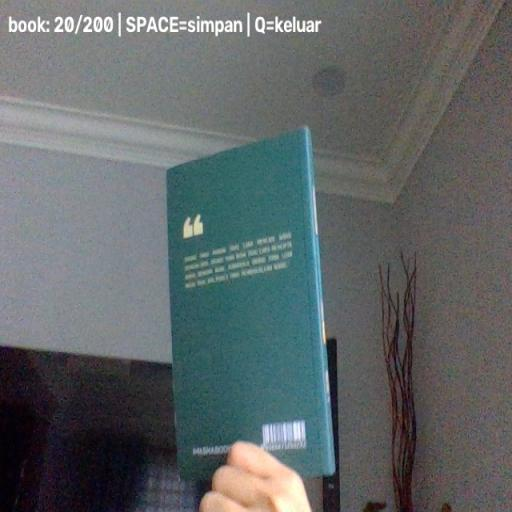Book: (166, 125, 336, 484)
